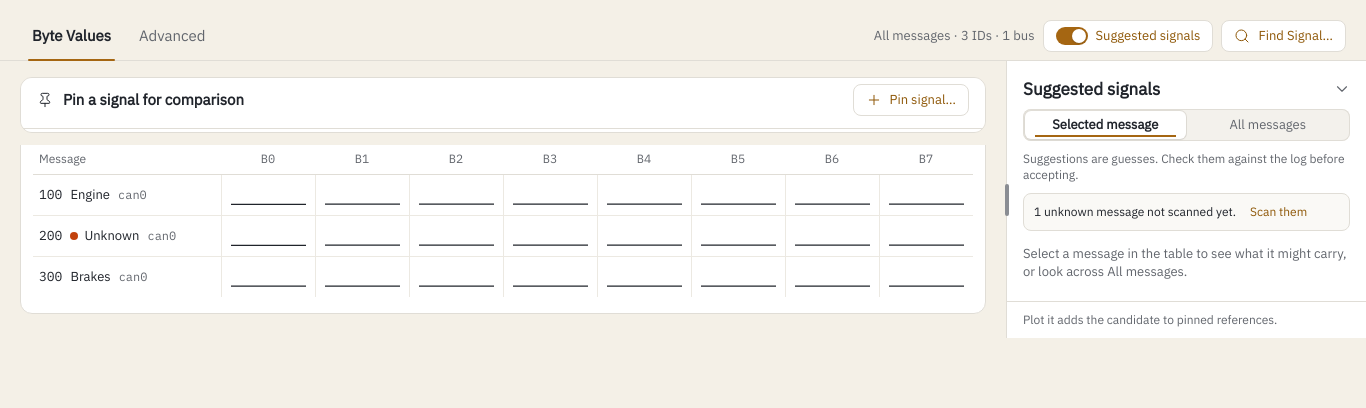
it: Byte Values › selects a byte and pins it
The image size is (1366, 408).
(page scrolled)
Check: the button "Pin byte" is not shown
Check: the heading "Pin a signal for comparison" is shown, box [63, 90, 244, 110]
Click the button named "100 byte 2" at (456, 195), box [414, 178, 499, 212]
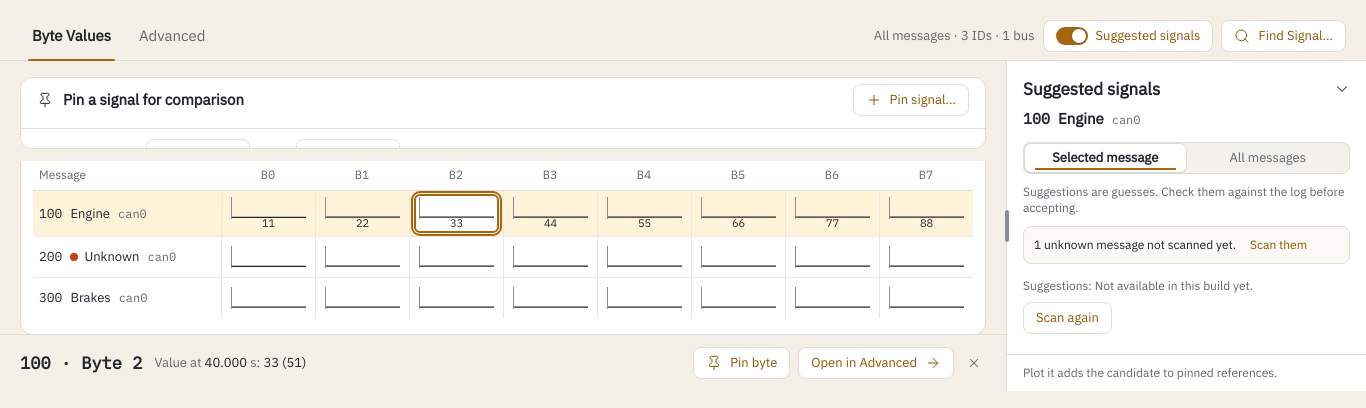
Check: the text "(51)" is shown, box [282, 354, 306, 371]
Click the button "Pin byte" at (742, 363), box [693, 347, 790, 379]
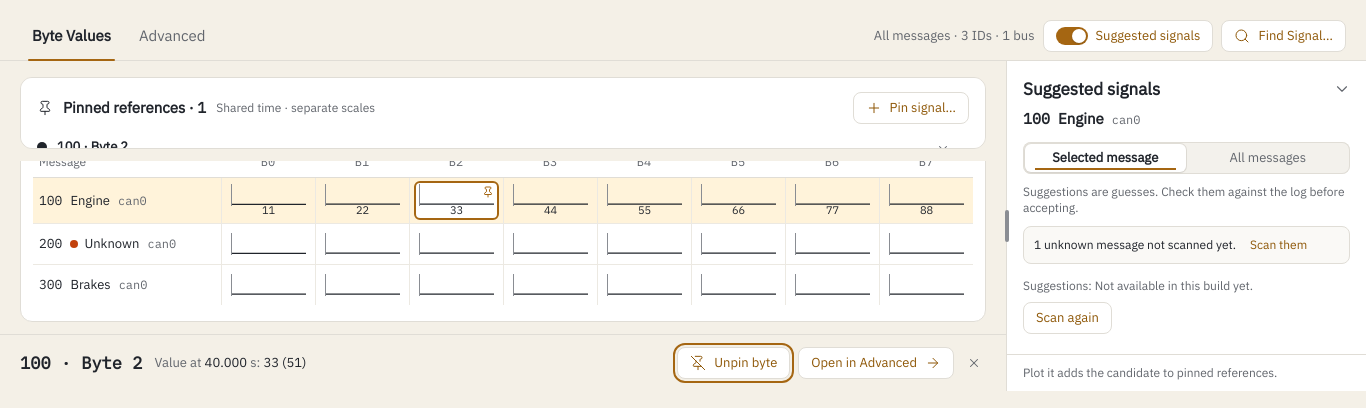
Check: the button "33" is shown, box [414, 181, 499, 220]
Check: the button "Unpin byte" is shown
Click the button "Unpin byte" at (734, 363), box [677, 347, 790, 379]
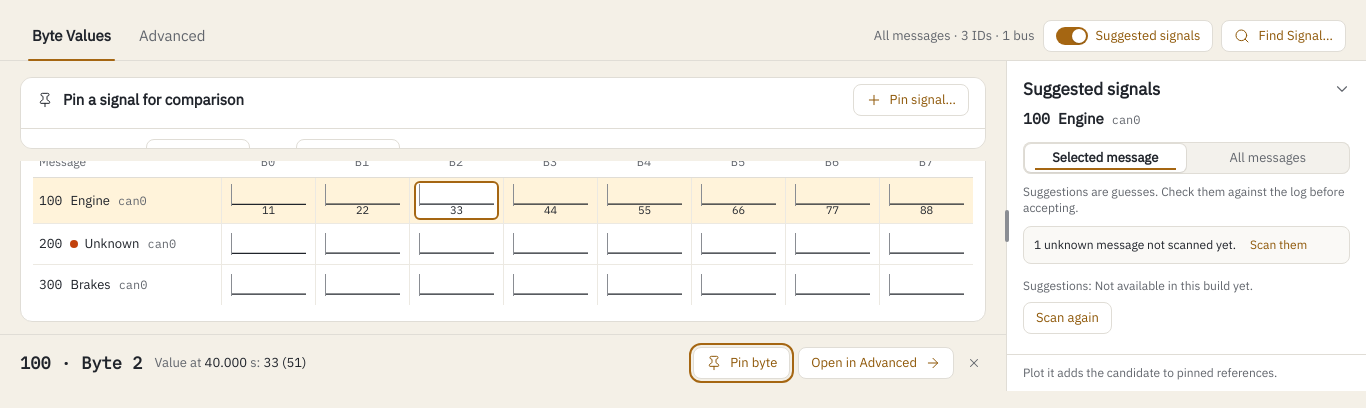
Check: the button "Pin byte" is shown, box [693, 347, 790, 379]
# Clearing the selection puts the footer away and leaves focus on the byte.
Click the button named "Clear selection" at (974, 363), box [962, 351, 986, 375]
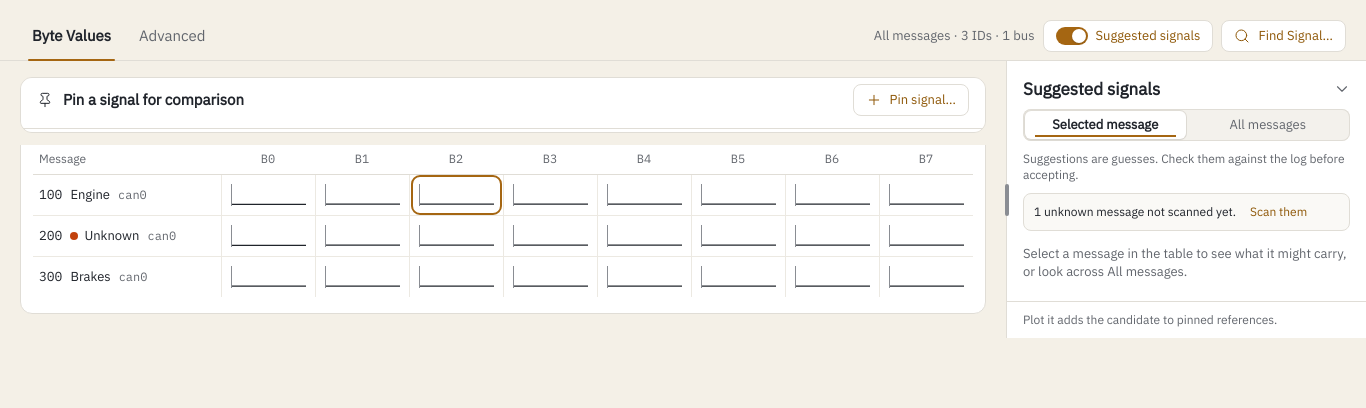
Check: the button "Pin byte" is gone
